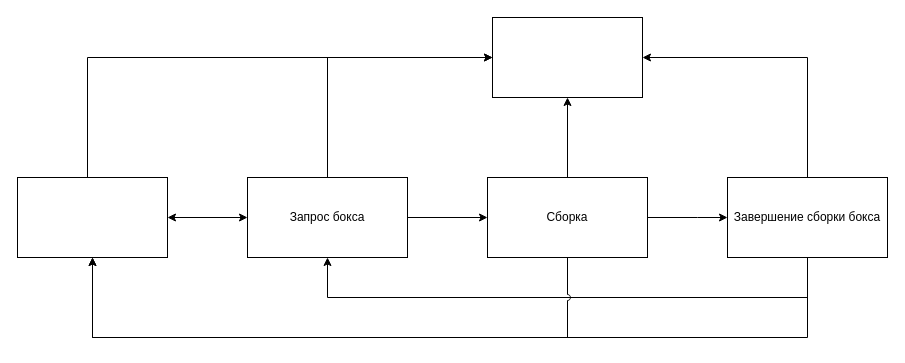
The diagram is 905 pixels wide and 363 high, and some of its shapes have lost their labels. Each missing label, with the box of its shape:
Авторизация: (16, 176, 168, 258)
Выход: (492, 16, 642, 98)
